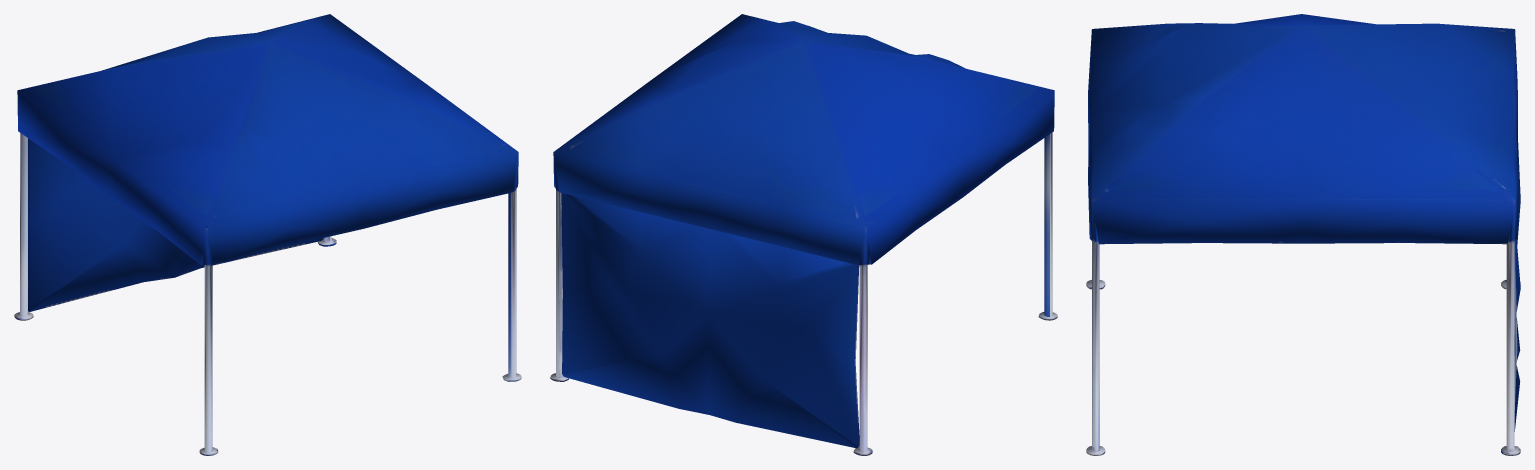
Rendered from Tenda_Biru.fbx.
The picture shows the model from 3 angles, left to right: view 1: azimuth 30°, elevation 25°; view 2: azimuth 150°, elevation 25°; view 3: azimuth 270°, elevation 25°; orthographic projection. The views are drawn at different scales.
Parts seen in each view (by area): view 1: texture_pbr_v128; view 2: texture_pbr_v128; view 3: texture_pbr_v128.
Part boxes in pixels (x1,y1,x2,y2): texture_pbr_v128: (14,14,521,455); texture_pbr_v128: (550,14,1057,455); texture_pbr_v128: (1086,14,1520,455).
Bounding box in the file's own units: 425 × 389 × 446.
1 material, 1 textured.
